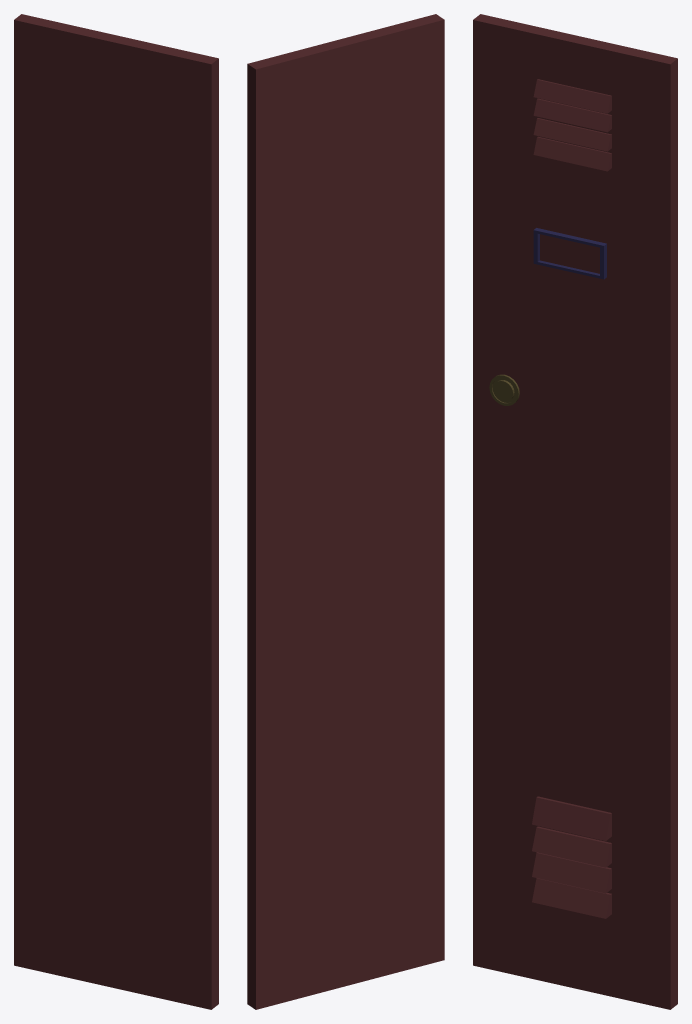
File: staticMesh_prop_Locker_Door.fbx
3 renders of one model, left to right at view 1: azimuth 90°, elevation 25°; view 2: azimuth 150°, elevation 25°; view 3: azimuth 270°, elevation 25°, orthographic.
Parts seen in each view (by area): view 1: Door; view 2: Door; view 3: Door.
Boxes of the visible parts, x1=… form: Door: x1=14, y1=14, x2=218, y2=1009; Door: x1=247, y1=14, x2=444, y2=1009; Door: x1=473, y1=14, x2=677, y2=1009.
Size of the model in its own units: 60.9 by 534 by 105.
